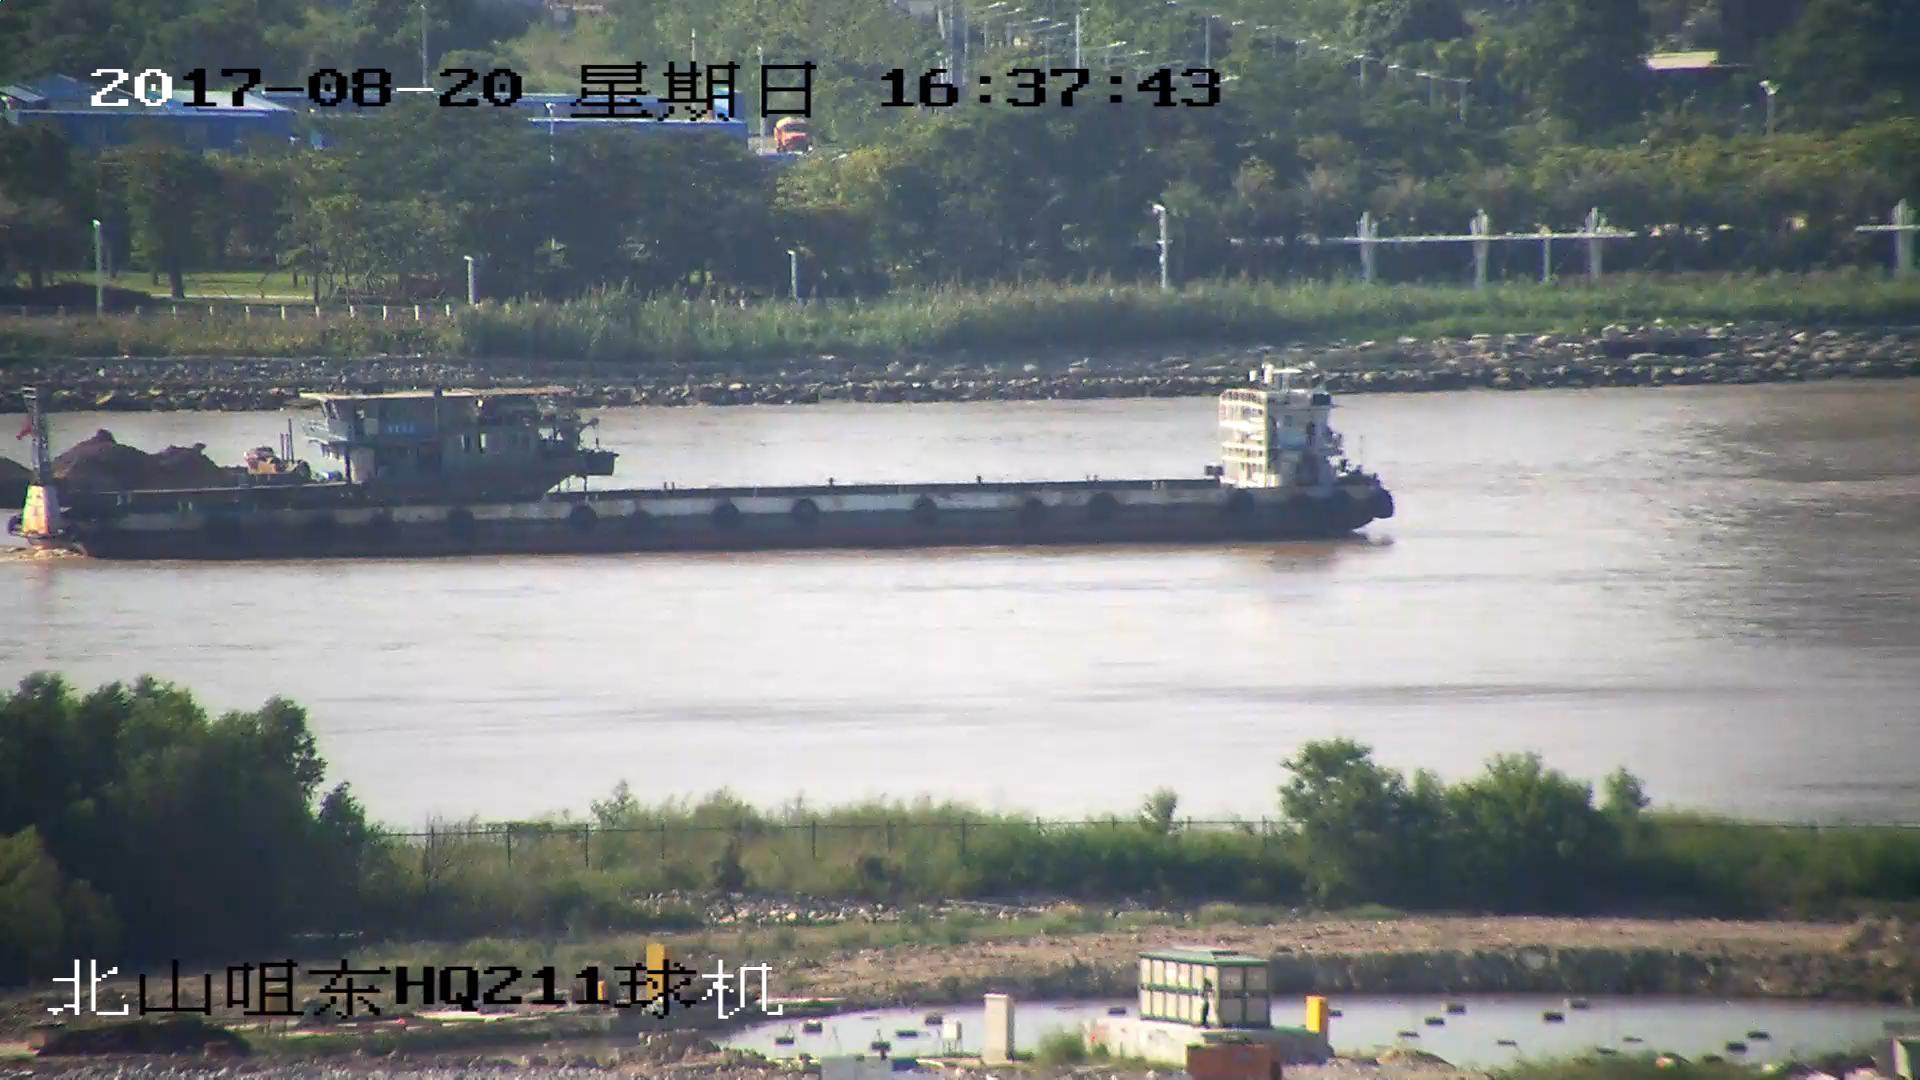Ship: (18, 375, 1403, 566), (3, 392, 613, 510)
